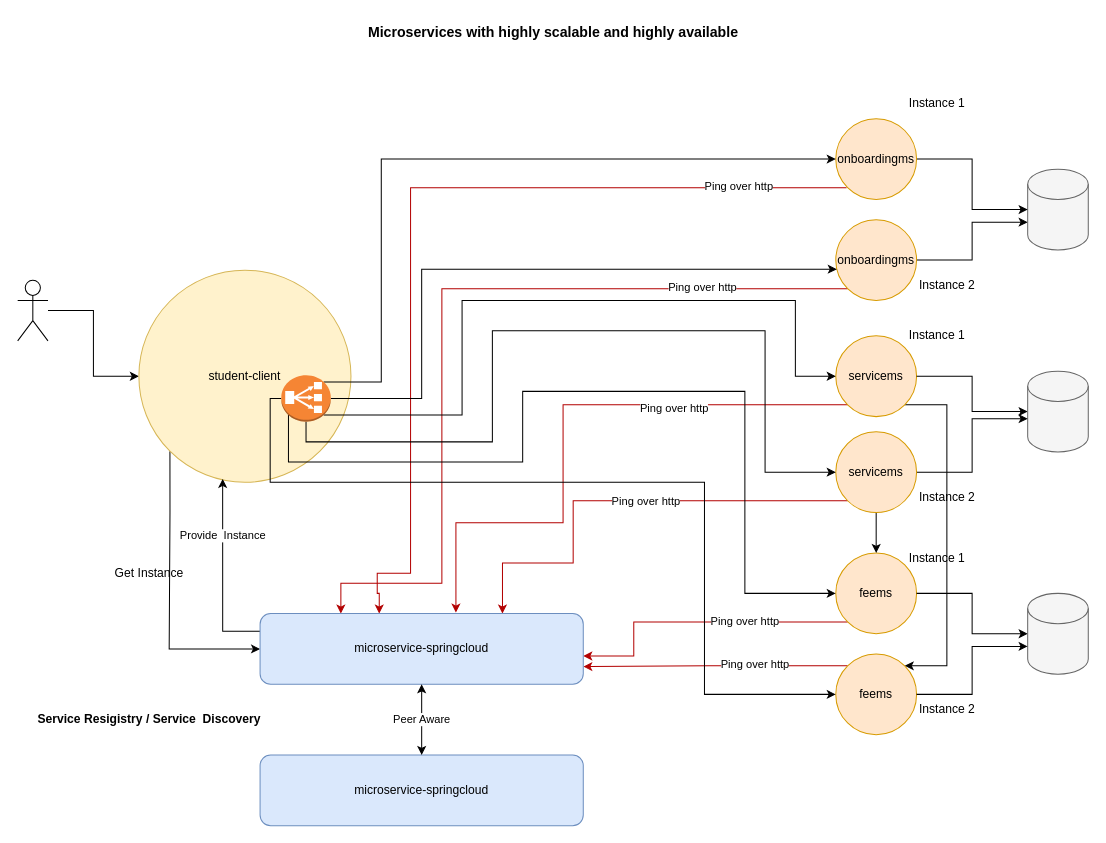
Some shapes in this 1106 by 843 pixel diagram are drawn without their labels. The centre of each missing label's shape, as x and y in pixels:
"Actor" goes at (x=32, y=310).
"feedb" goes at (x=1057, y=633).
"servicedb" goes at (x=1057, y=411).
"studentdb" goes at (x=1057, y=209).
